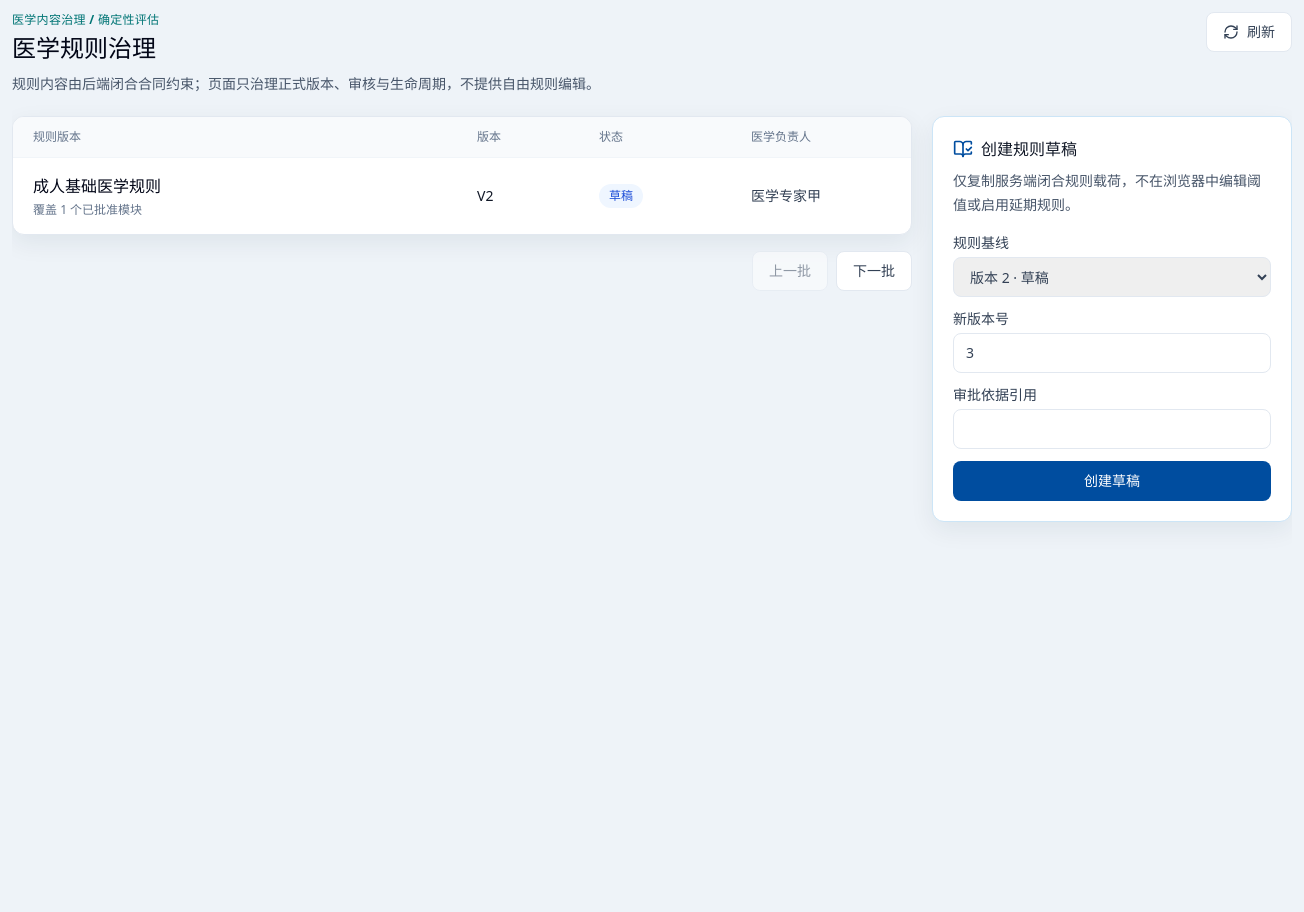
Test: 一期切片5医学规则治理 › 旧cursor失效后由用户返回首页，且恢复请求不再携带cursor
Click the button "下一批" at point(874, 271), box [836, 251, 912, 291]
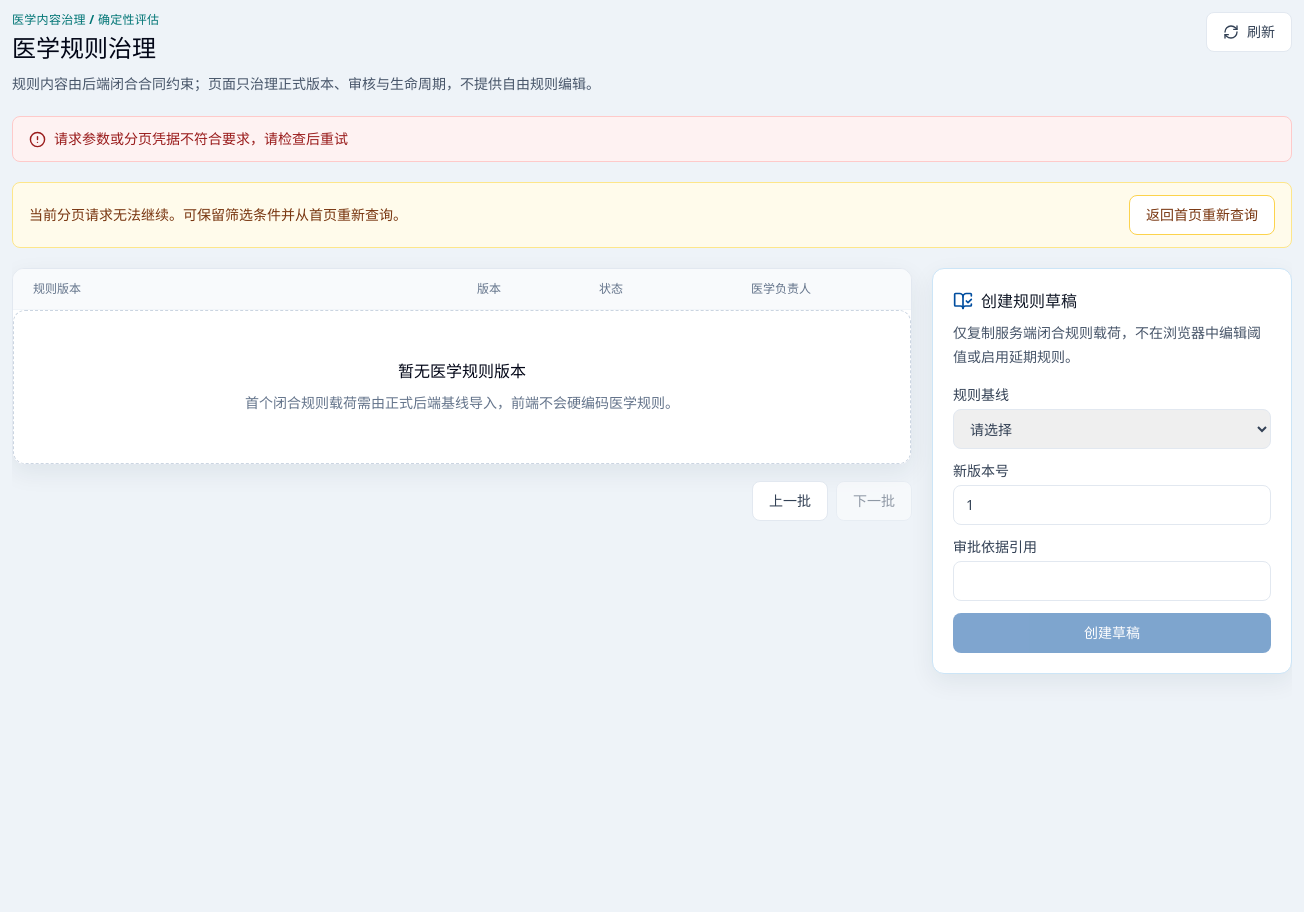
Result: the message shows "分页凭据" at [54, 129, 348, 148]
Click the button "返回首页重新查询" at point(1202, 215), box [1129, 195, 1275, 235]
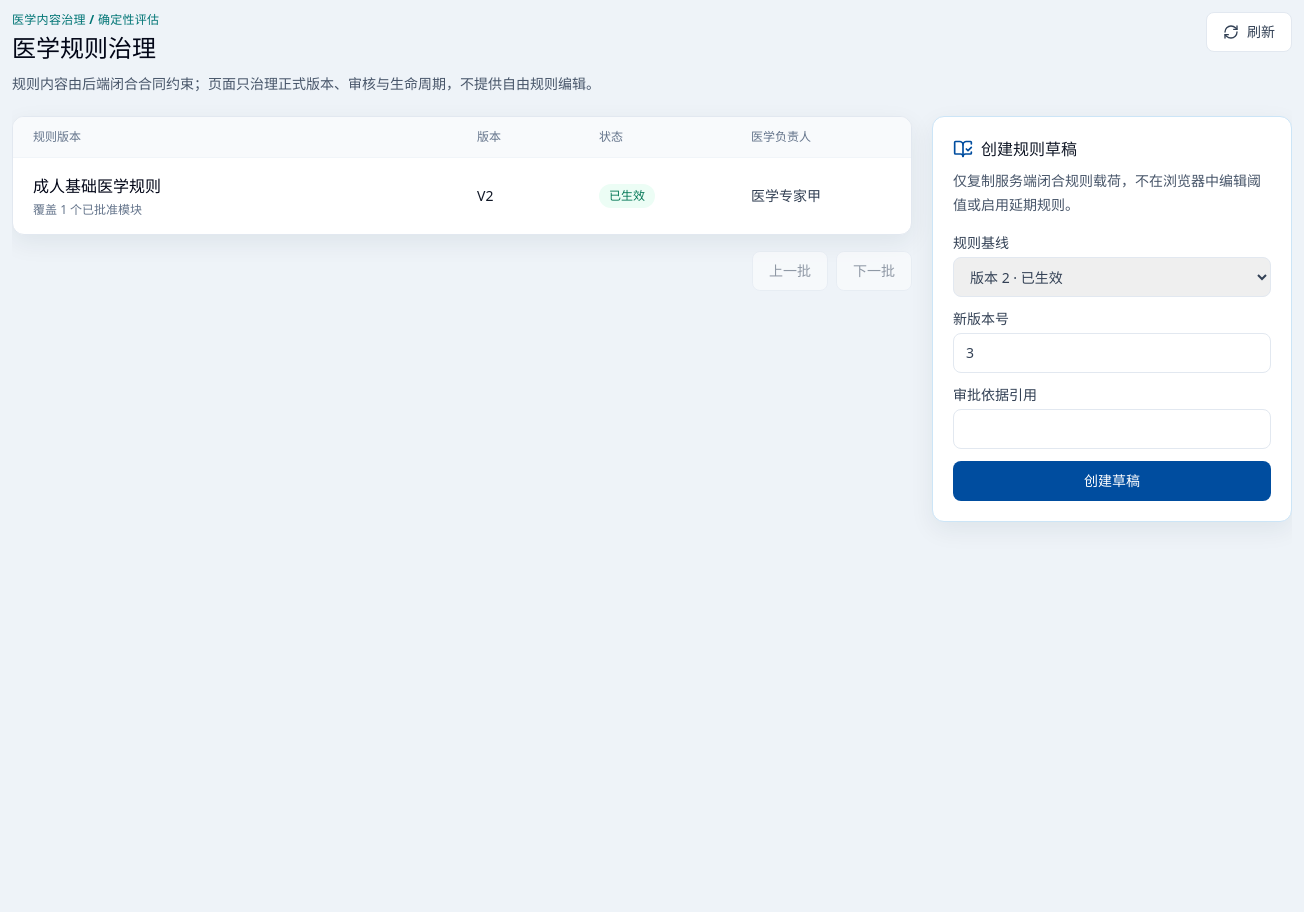
Result: the button "返回首页重新查询" is gone
